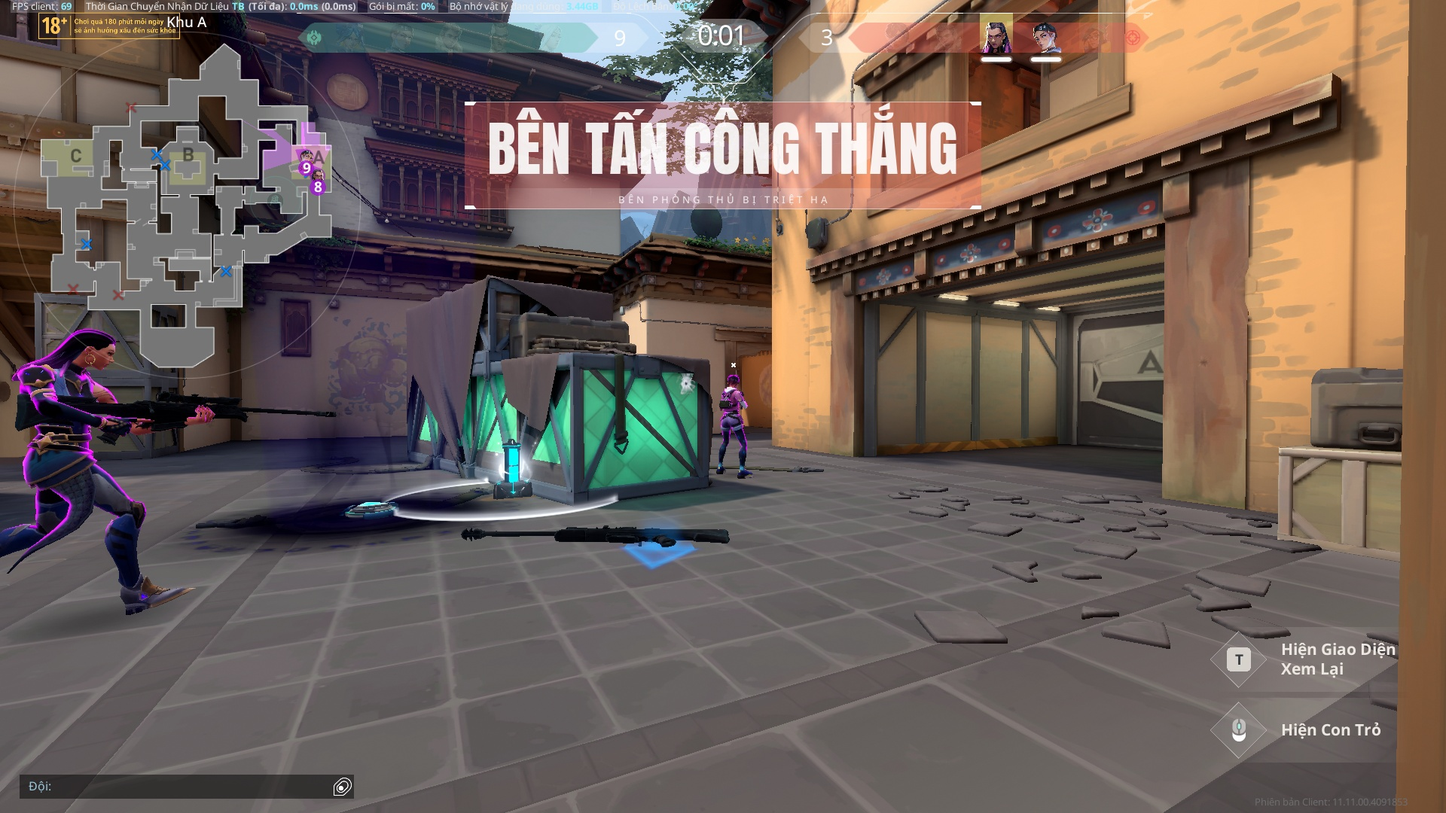body: (24, 357, 102, 448), (718, 386, 743, 413)
head: (62, 323, 113, 367), (727, 372, 740, 388)
